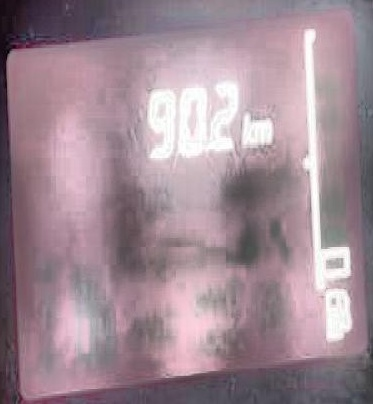-: (203, 135, 208, 151)
0: (176, 82, 205, 155)
2: (208, 78, 238, 151)
9: (143, 84, 174, 158)
X: (239, 111, 253, 146), (253, 115, 270, 142)
